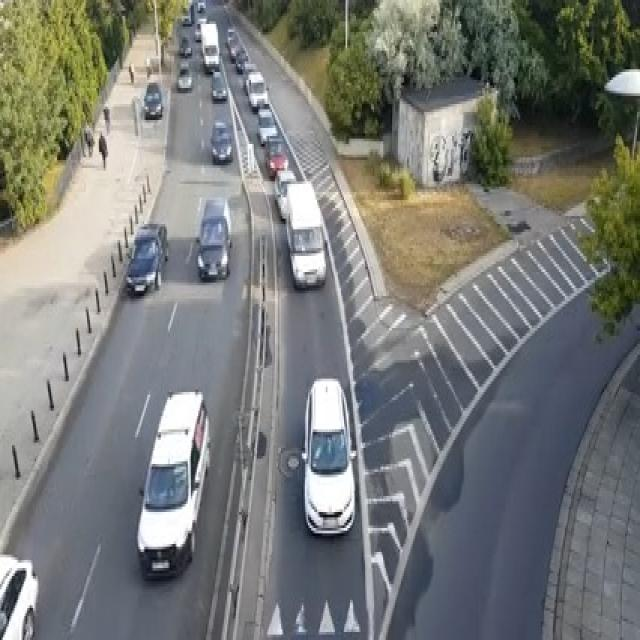car: (136, 389, 210, 579), (299, 376, 355, 536), (285, 179, 326, 288), (0, 552, 38, 637), (125, 221, 168, 296), (196, 195, 232, 280), (273, 168, 296, 219), (264, 133, 288, 179), (209, 120, 233, 163), (245, 70, 269, 110), (255, 107, 278, 144), (143, 80, 162, 117), (210, 70, 227, 102), (242, 59, 257, 93), (178, 61, 192, 91), (234, 48, 248, 72), (194, 16, 207, 40), (228, 40, 242, 61), (179, 35, 191, 56), (226, 24, 234, 45), (197, 0, 206, 11), (182, 13, 191, 24)
